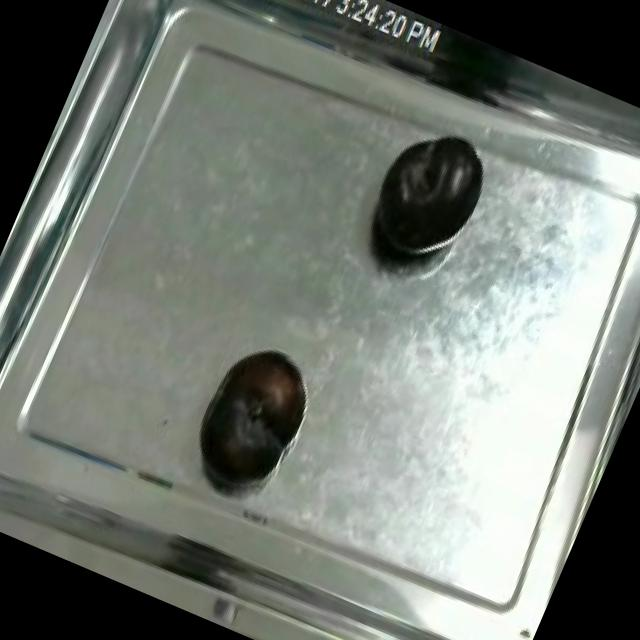Fruit: (350, 110, 503, 284), (183, 331, 320, 494)
